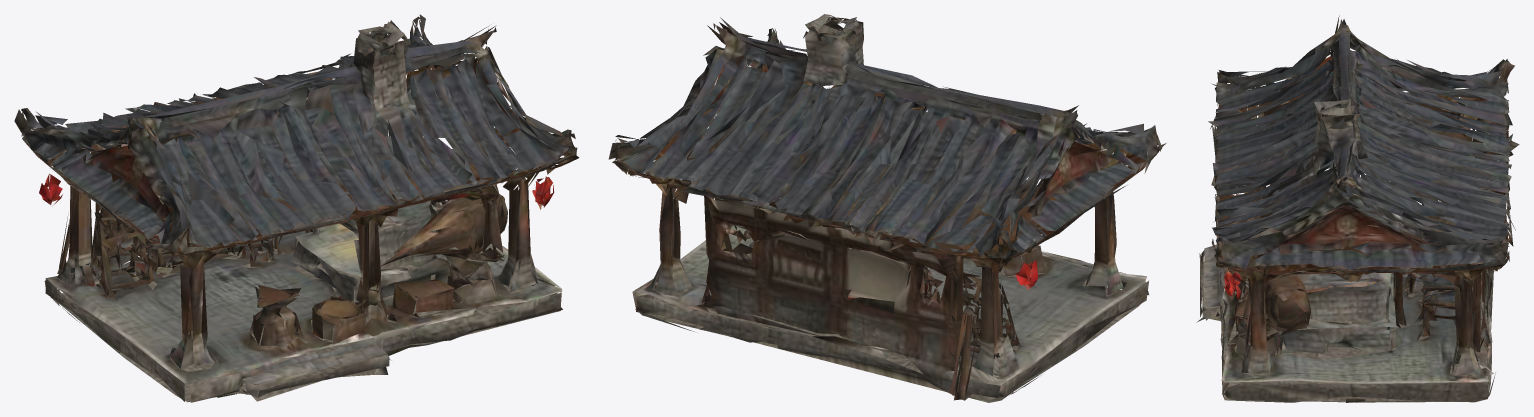
Rendered from ferraria_lod1.glb.
The picture shows the model from 3 angles, left to right: view 1: azimuth 30°, elevation 25°; view 2: azimuth 150°, elevation 25°; view 3: azimuth 270°, elevation 25°; orthographic projection. The views are drawn at different scales.
Parts seen in each view (by area): view 1: ferraria; view 2: ferraria; view 3: ferraria.
Boxes of the visible parts, bbox=[...] form: ferraria: bbox=[14, 14, 579, 402]; ferraria: bbox=[608, 14, 1166, 402]; ferraria: bbox=[1196, 15, 1519, 402].
Size of the model in its own units: 8.13 by 5.13 by 6.02.
1 material, 1 textured.
